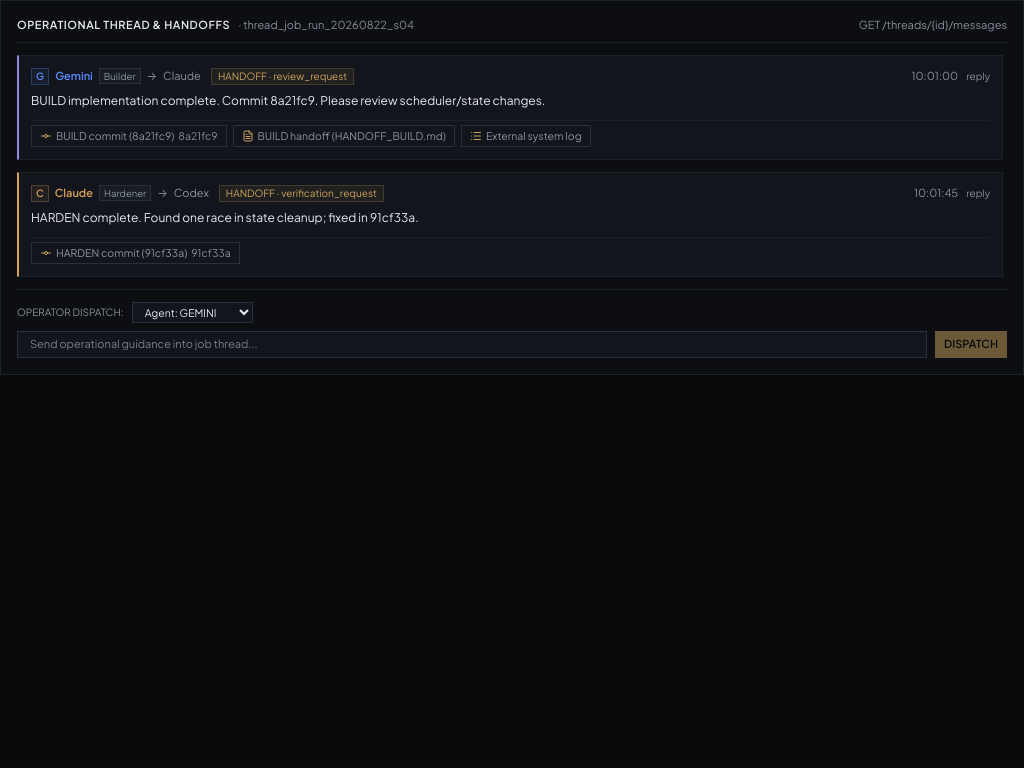
Test: Phase 5.1 Operational Messaging & Truthful Artifact Trust UI › renders git commit reference without path containment claim
What coordinates should you click on to do the following:
click the text "BUILD commit (8a21fc9)"
I would click on:
 (115, 136)
Its box is [56,128,174,144].
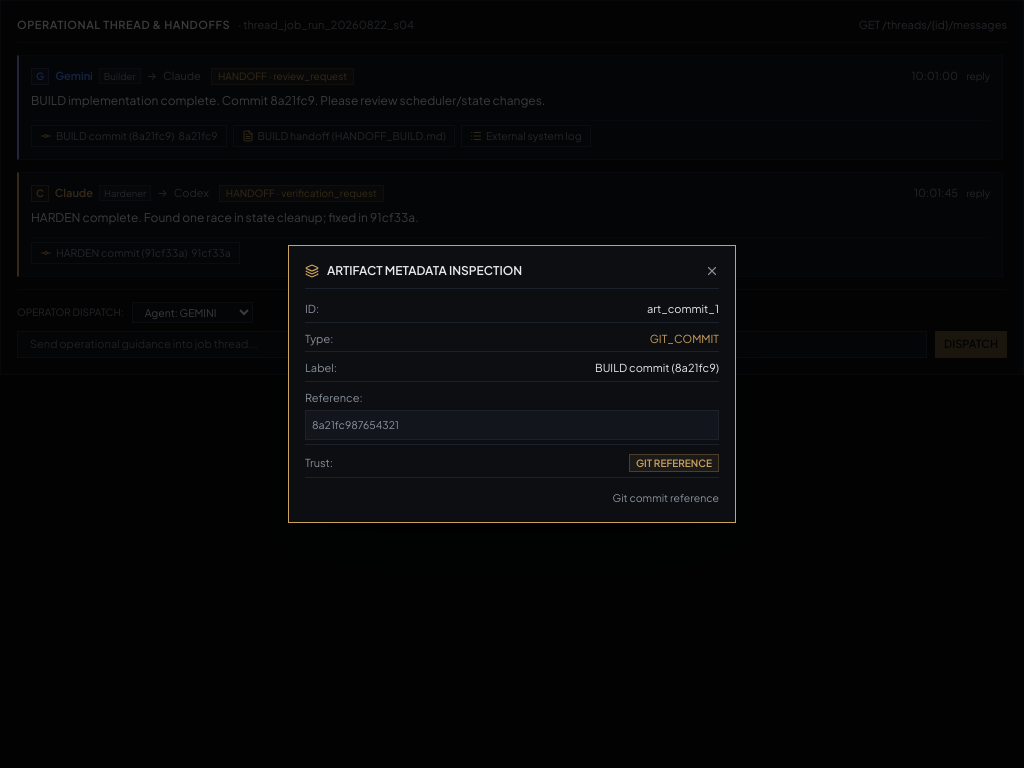
Check: the text "ARTIFACT METADATA INSPECTION" is shown, box [327,262,522,280]
Check: the text "8a21fc987654321" is shown, box [305,410,719,440]
Check: the text "git_commit" is shown, box [650,330,719,347]
